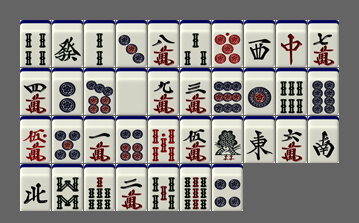0m: (20, 116, 51, 163)
0p: (212, 20, 243, 67)
0s: (148, 116, 179, 163)
1m: (84, 116, 115, 163)
1p: (244, 68, 275, 115)
1s: (212, 116, 243, 163)
1z: (244, 116, 275, 163)
2m: (116, 164, 147, 211)
2p: (52, 68, 83, 115)
2s: (84, 20, 115, 67)
2z: (308, 116, 339, 163)
3m: (180, 68, 211, 115)
3p: (116, 20, 147, 67)
3s: (180, 20, 211, 67)
3z: (244, 20, 275, 67)
4m: (20, 68, 51, 115)
4p: (212, 164, 243, 211)
4s: (20, 20, 51, 67)
4z: (20, 164, 51, 211)
5m: (180, 116, 211, 163)
5p: (52, 116, 83, 163)
5s: (148, 164, 179, 211)
5z: (116, 68, 147, 115)
6m: (276, 116, 307, 163)
6p: (116, 116, 147, 163)
6s: (276, 68, 307, 115)
6z: (52, 20, 83, 67)
7m: (308, 20, 339, 67)
7p: (84, 68, 115, 115)
7s: (84, 164, 115, 211)
7z: (276, 20, 307, 67)
8m: (148, 20, 179, 67)
8p: (308, 68, 339, 115)
8s: (52, 164, 83, 211)
9m: (148, 68, 179, 115)
9p: (212, 68, 243, 115)
9s: (180, 164, 211, 211)
